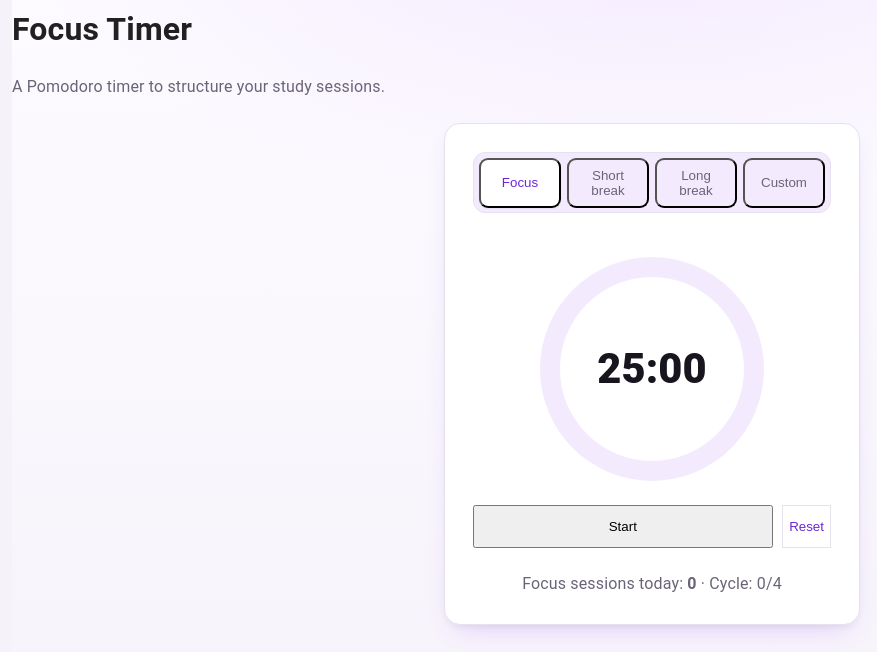
Test case: FocusTimerPage › reset restores the full duration for the current mode
Click the button "Start". click: point(623, 526)
box: [473,506,773,548]
Wait 5000 ms
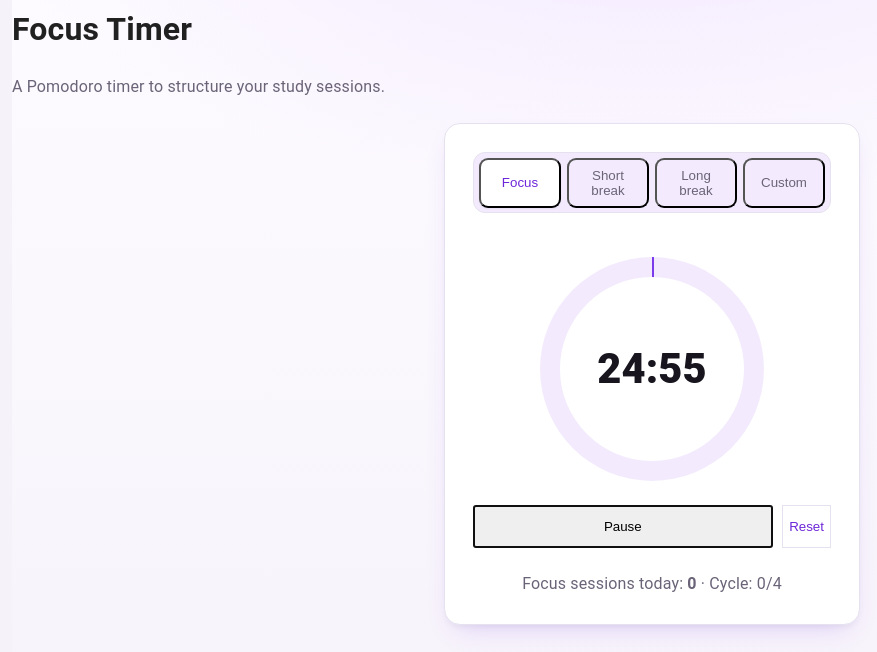
Click the button "Reset". click: point(807, 526)
box: [782,506,831,548]
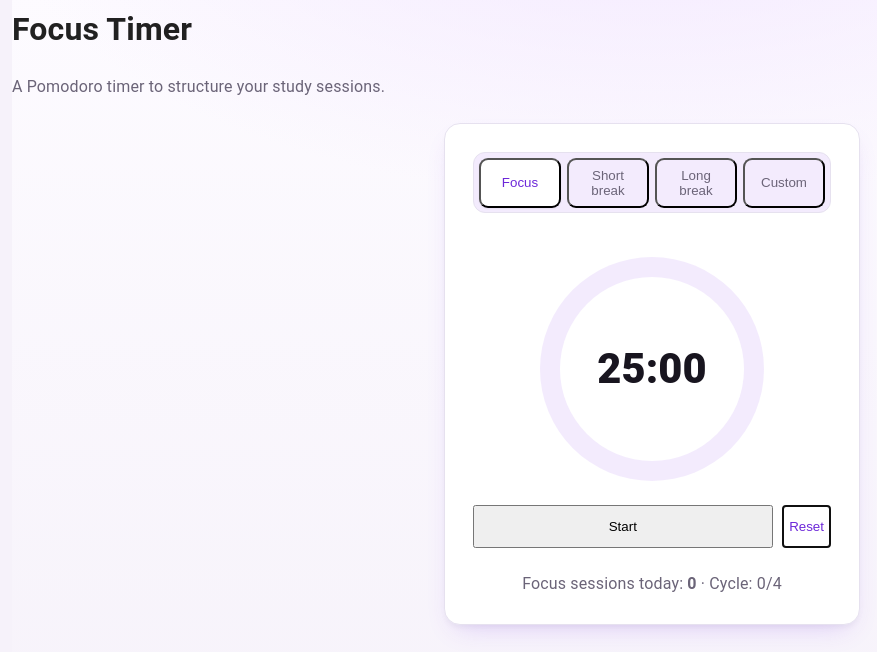
Expected: the text "25:00" is shown, [560,278,744,462]
